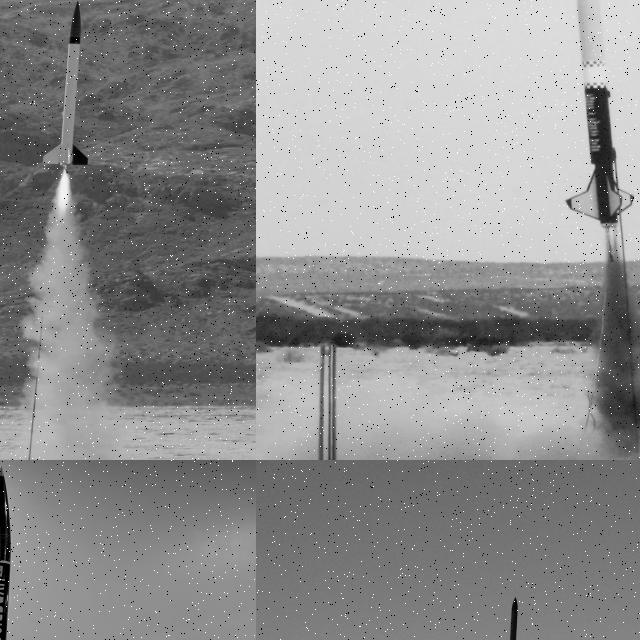Rocket: (563, 0, 635, 230), (40, 0, 89, 166), (504, 596, 523, 640)
